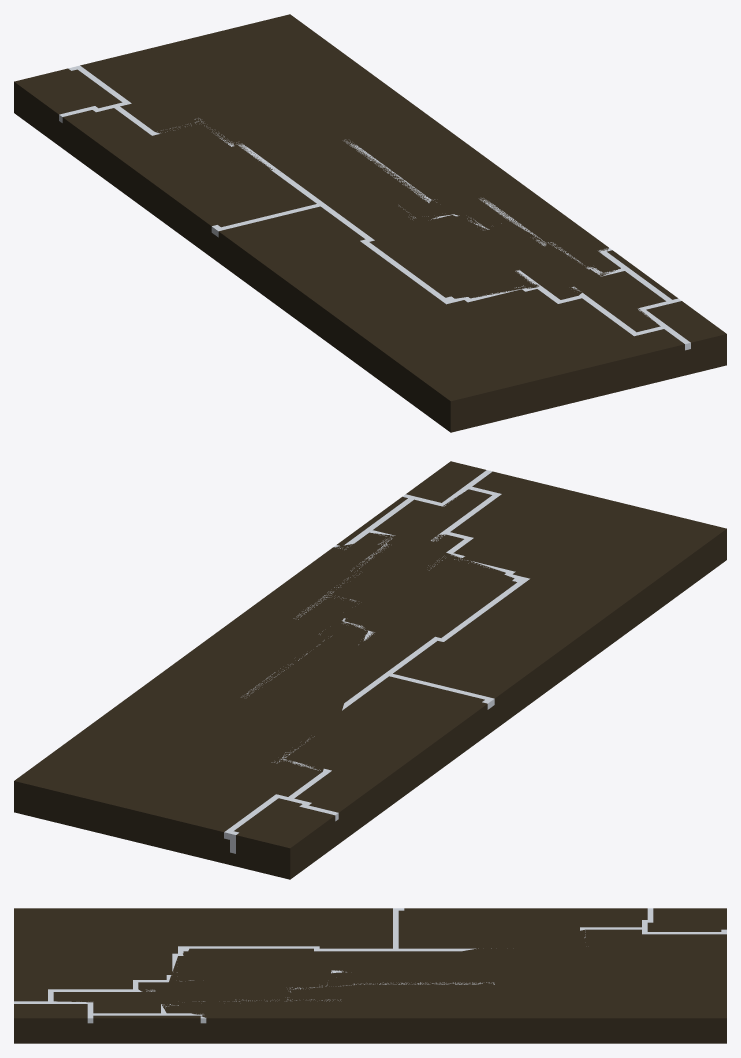
File: siistittypolkumateriaaleilla.fbx
3 views of the same model, one above another, from view 1: azimuth 30°, elevation 25°; view 2: azimuth 150°, elevation 25°; view 3: azimuth 270°, elevation 25° (orthographic). The views are drawn at different scales.
Visible parts, largest first — view 1: polku; view 2: polku; view 3: polku.
Part boxes in pixels (x1,y1,x2,y2): polku: [14, 14, 726, 432]; polku: [14, 461, 726, 879]; polku: [14, 908, 726, 1043].
Bounding box in the file's own units: 460 × 50 × 1260.
